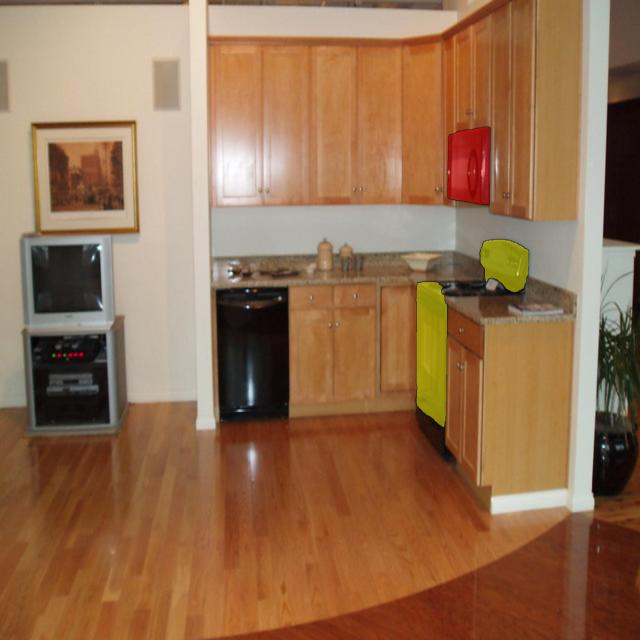dishwasher: (217, 288, 289, 416)
